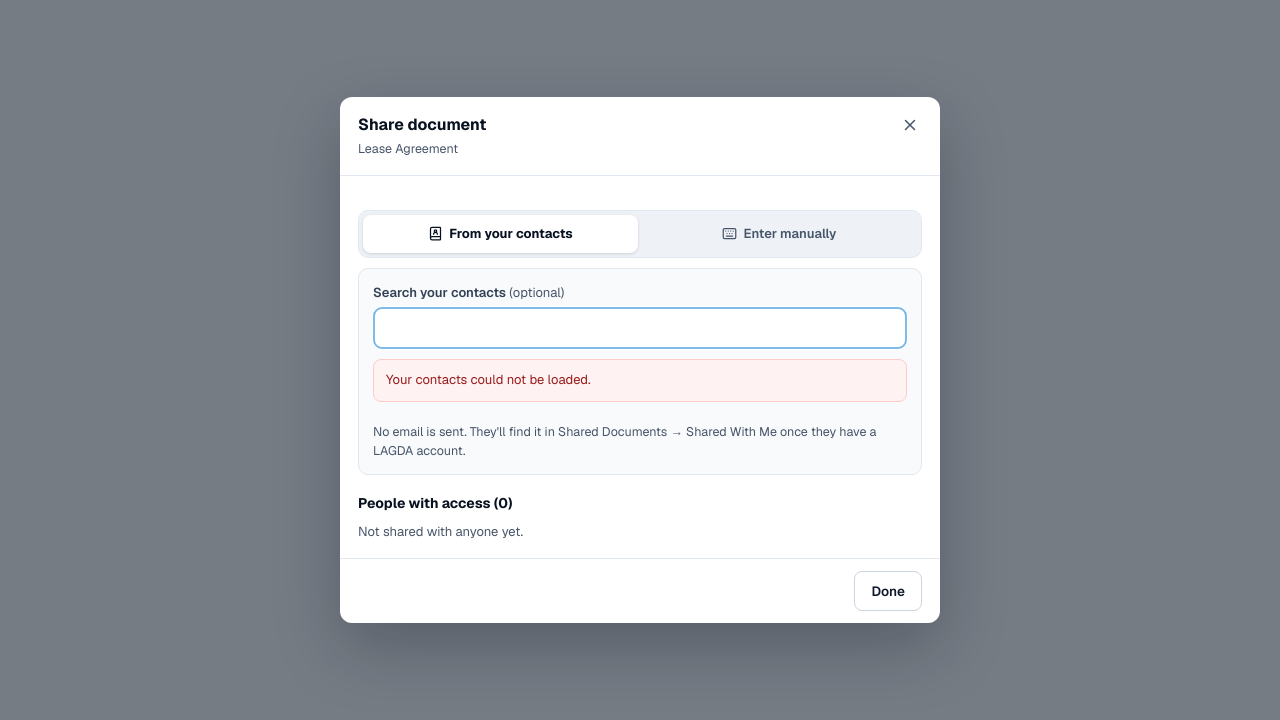
ShareDocumentDialog › explains document_share_recipient_has_access
Click the tab with test id "add-way-manual".
click(780, 234)  # box [642,215,917,253]
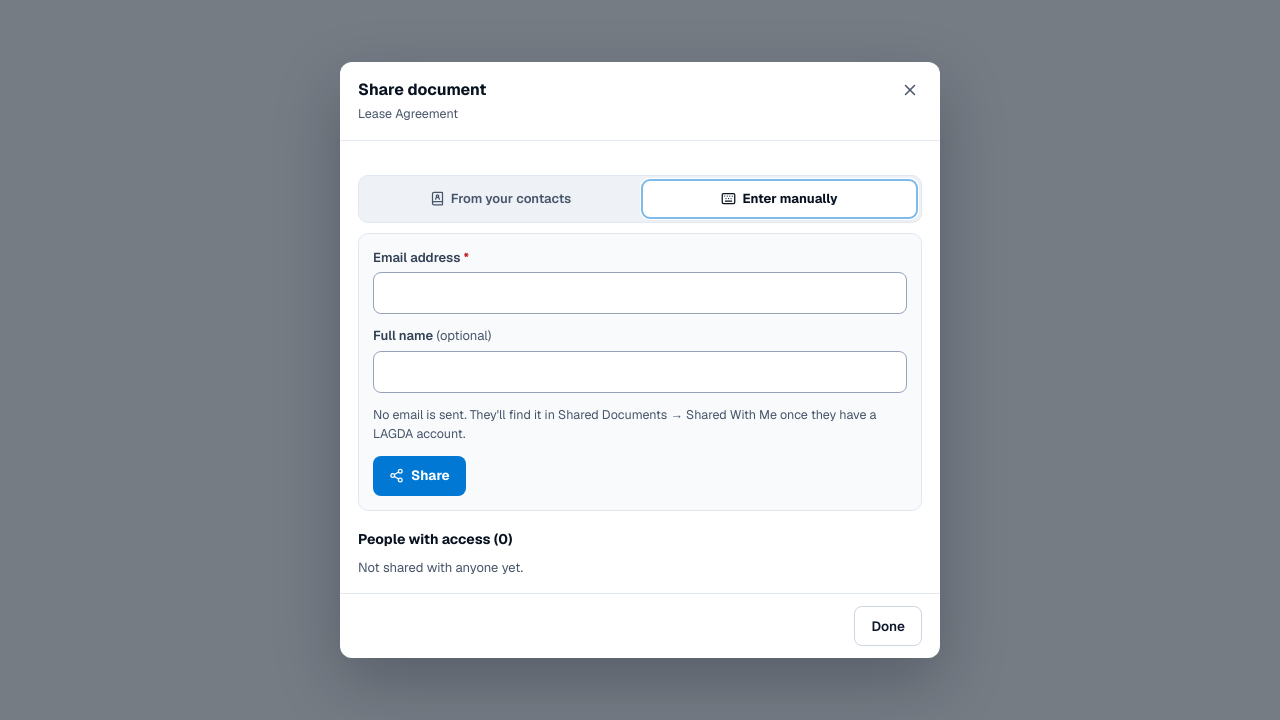
Type "ana@example.com" into the field labelled "Email address *".
click(640, 293); type("ana@example.com")  # box [373,272,907,314]
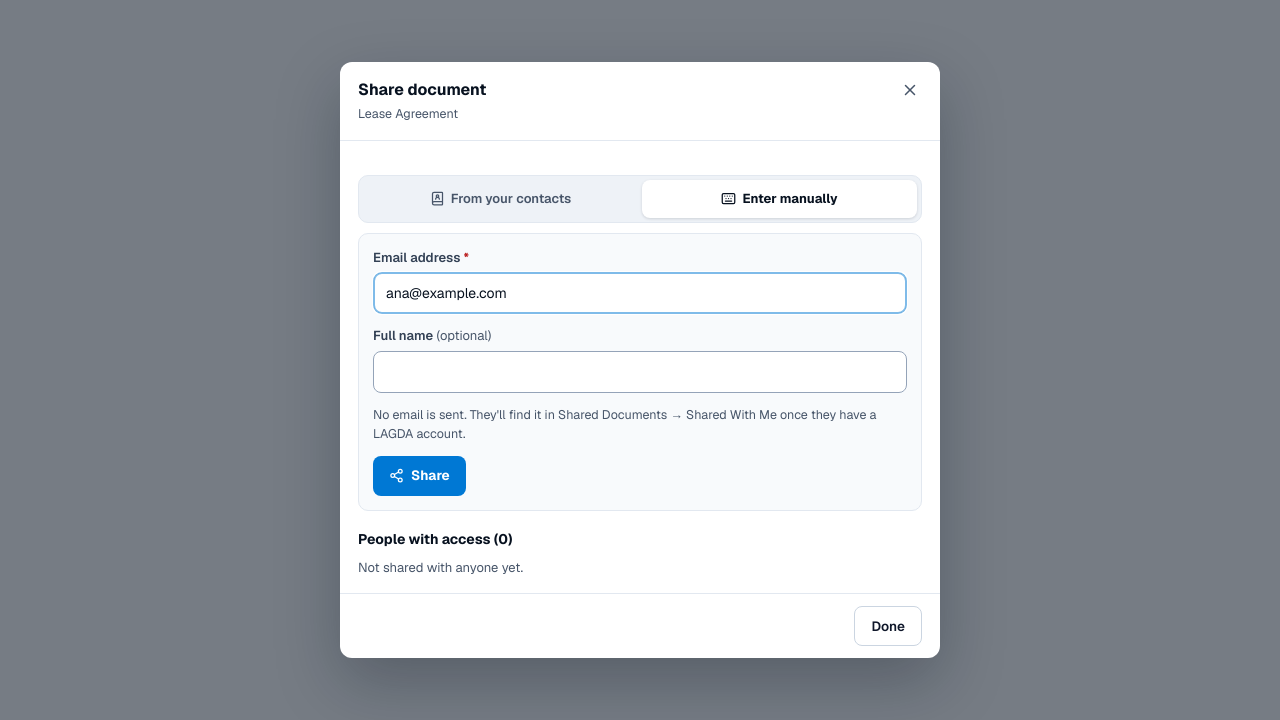
Click the button "Share".
click(419, 476)  # box [373,456,466,496]
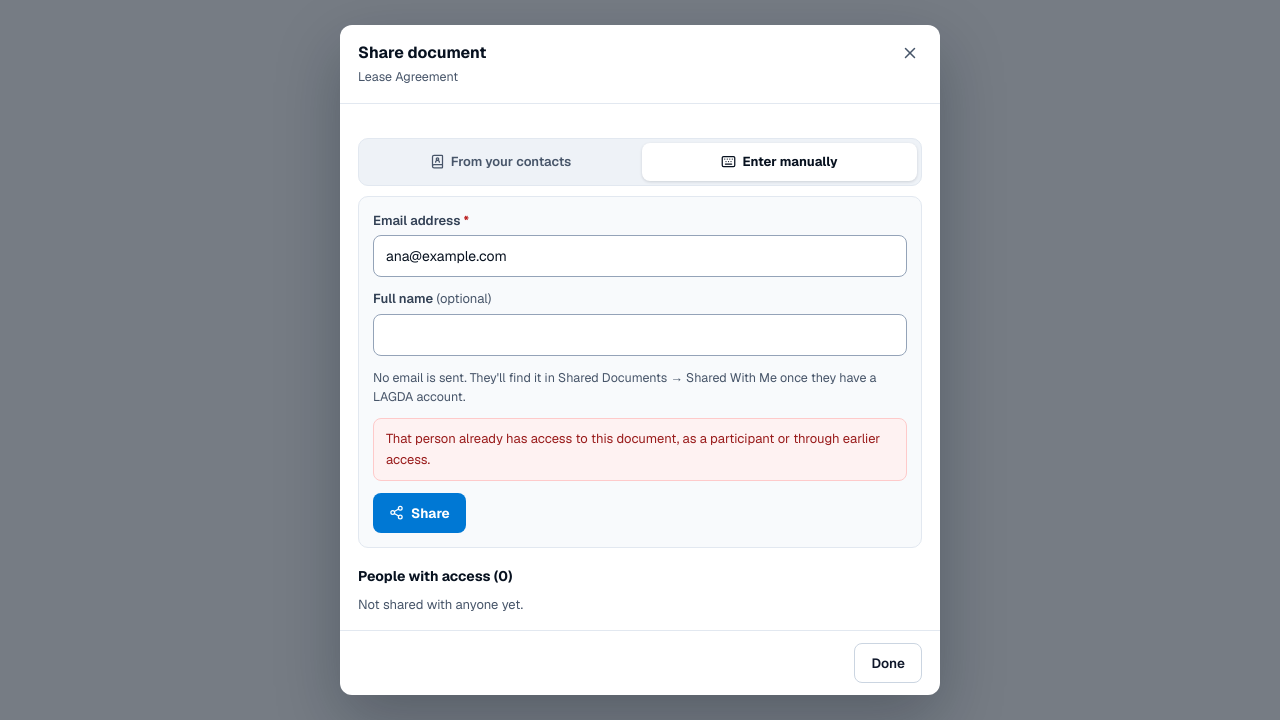
Now the text "already has access to this document" is shown, box [386,430,880,468]
